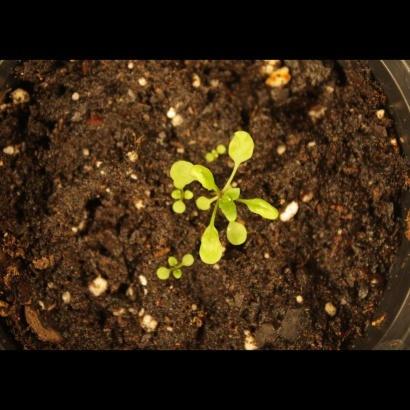leaf: (226, 126, 260, 172), (243, 189, 286, 225), (195, 226, 226, 268), (171, 156, 202, 185), (225, 219, 253, 250), (216, 194, 241, 225), (195, 163, 220, 191), (147, 269, 170, 292), (176, 251, 199, 274), (167, 201, 190, 224)
